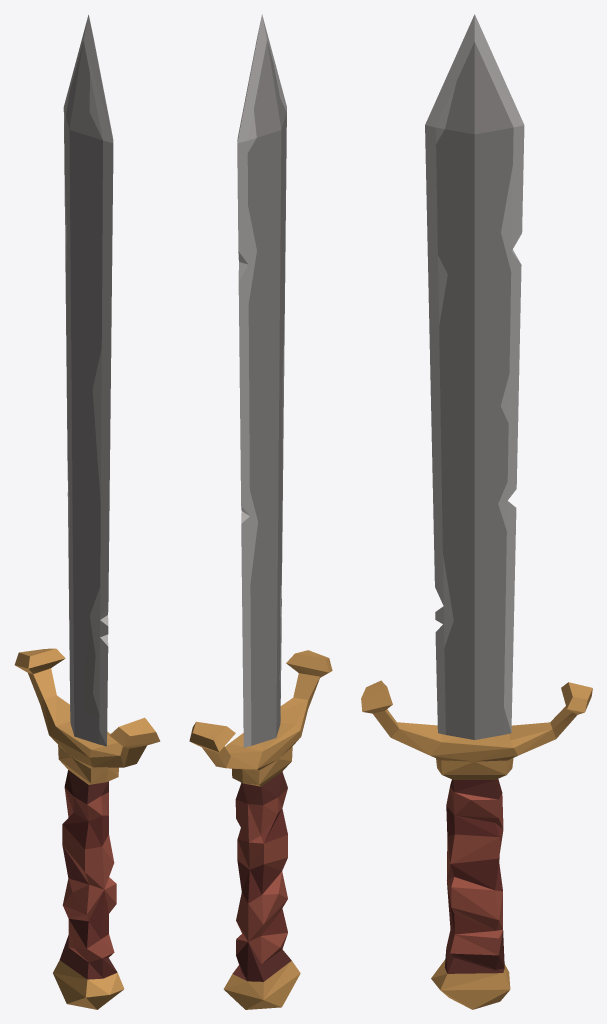
File: Sword.glb
3 renders of one model, left to right at view 1: azimuth 30°, elevation 25°; view 2: azimuth 150°, elevation 25°; view 3: azimuth 270°, elevation 25°, orthographic.
Visible parts, largest first — view 1: SM_Prop_SwordOrnate_01; view 2: SM_Prop_SwordOrnate_01; view 3: SM_Prop_SwordOrnate_01.
Boxes of the visible parts, box(x1,y1,x2,y2) form: SM_Prop_SwordOrnate_01: box(14, 15, 160, 1009); SM_Prop_SwordOrnate_01: box(189, 14, 332, 1009); SM_Prop_SwordOrnate_01: box(361, 14, 592, 1009).
Size of the model in its own units: 0.0651 by 1.32 by 0.282.
Materials: 1 (1 with a texture image).
